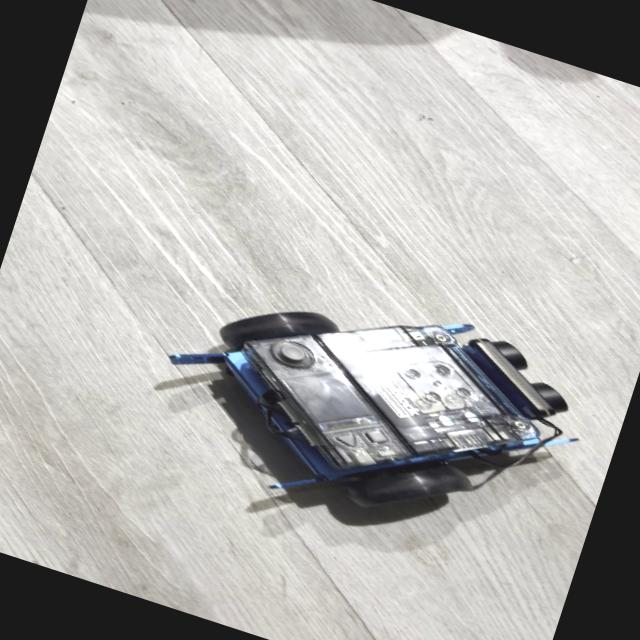mbot-detection: (129, 228, 622, 587)
